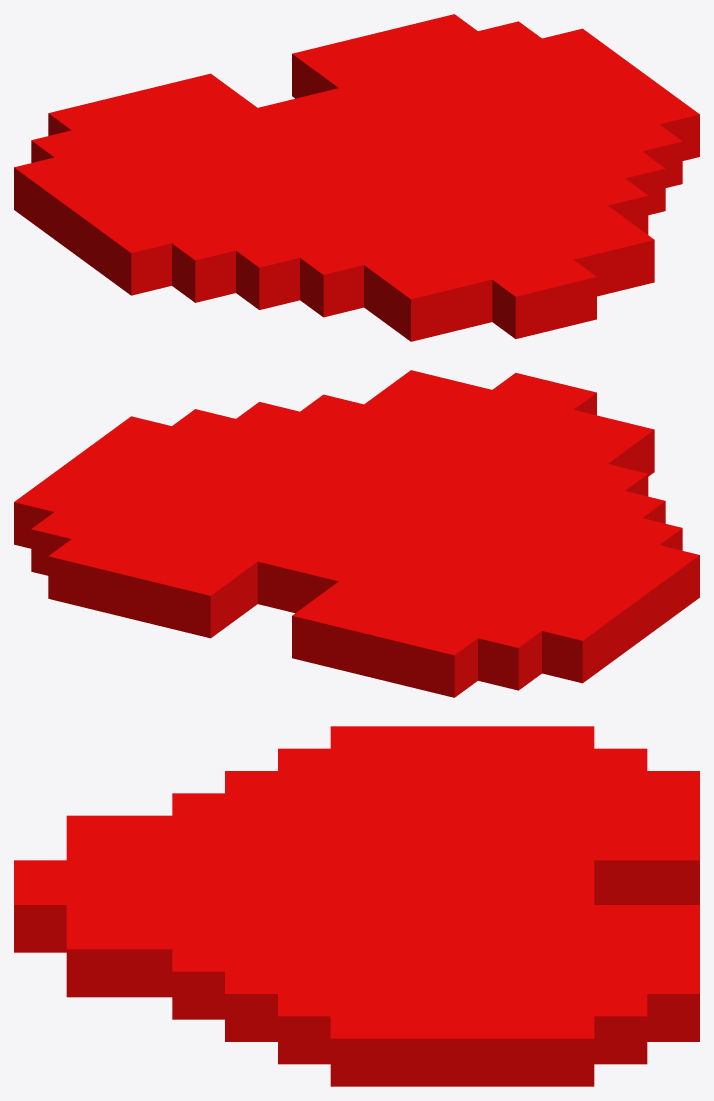
File: heartModel.obj
3 renders of one model, top to bottom at view 1: azimuth 30°, elevation 25°; view 2: azimuth 150°, elevation 25°; view 3: azimuth 270°, elevation 25°, orthographic. The views are drawn at different scales.
Size of the model in its own units: 1.4 by 0.1 by 1.3.
1 material, 1 textured.
